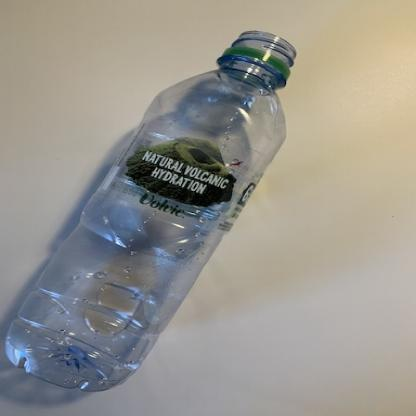trash: (0, 30, 297, 391)
